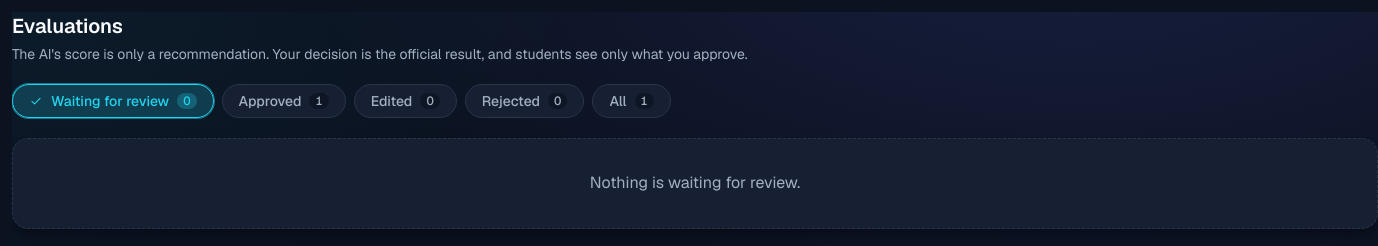
Test: FacultyQueue: filters › says when nothing is waiting, or nothing matches
Check: the text "Nothing is waiting for review." is shown, box [12, 138, 1377, 229]
Click the button "Rejected 0" at (525, 101), box [465, 84, 584, 118]
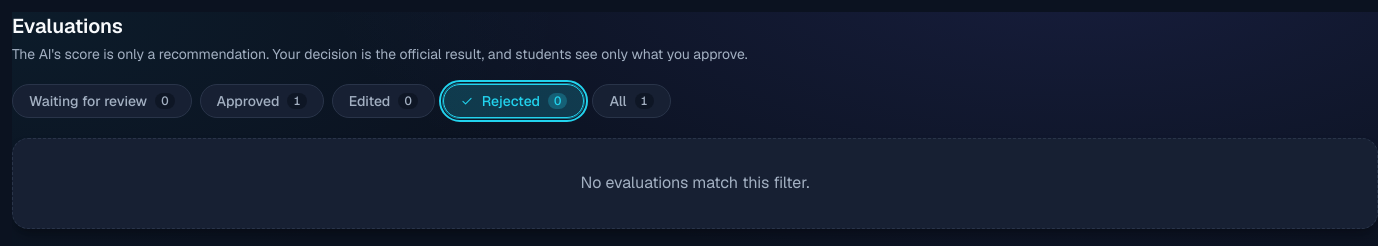
Check: the text "No evaluations match this filter." is shown, box [12, 138, 1377, 229]
